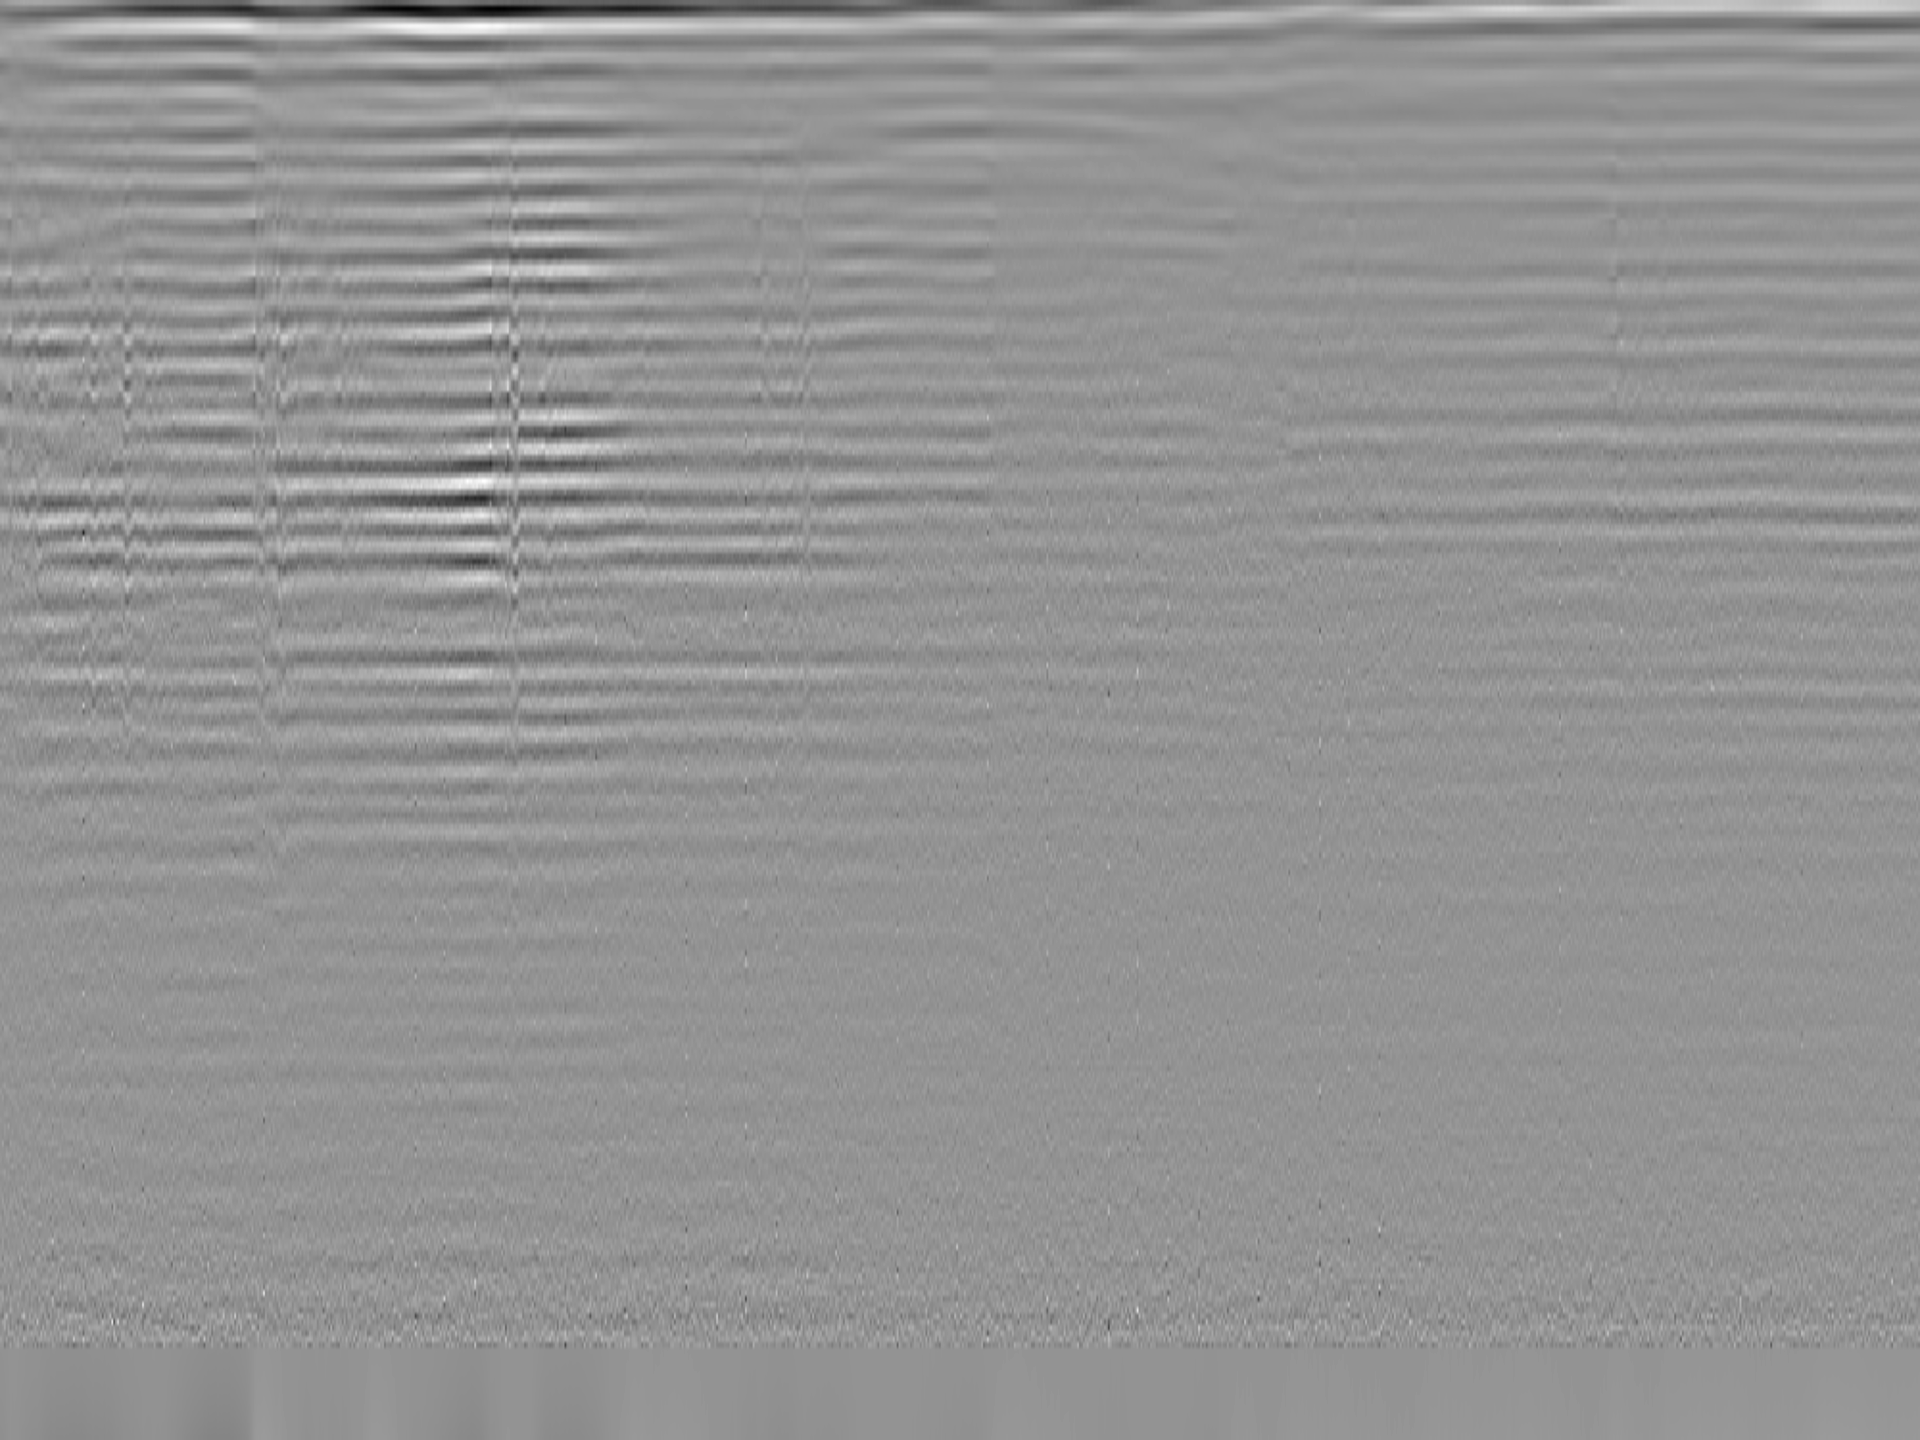Tunnel: (718, 109, 1364, 178)
